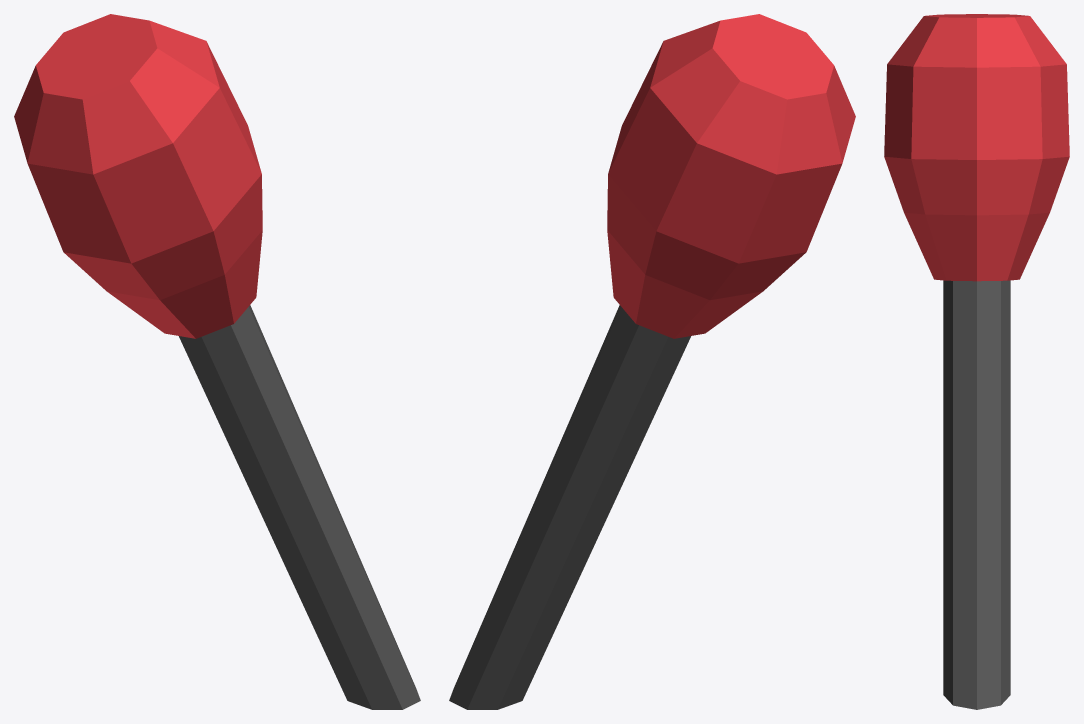
Rendered from рычаг.fbx.
The picture shows the model from 3 angles, left to right: view 1: azimuth 30°, elevation 25°; view 2: azimuth 150°, elevation 25°; view 3: azimuth 270°, elevation 25°; orthographic projection. The views are drawn at different scales.
Visible parts, largest first — view 1: Cylinder.004; view 2: Cylinder.004; view 3: Cylinder.004.
Part boxes in pixels (x1,y1,x2,y2): Cylinder.004: (14, 14, 420, 709); Cylinder.004: (449, 14, 855, 709); Cylinder.004: (884, 14, 1069, 709).
Bounding box in the file's own units: 10.22 × 18.41 × 5.27.
